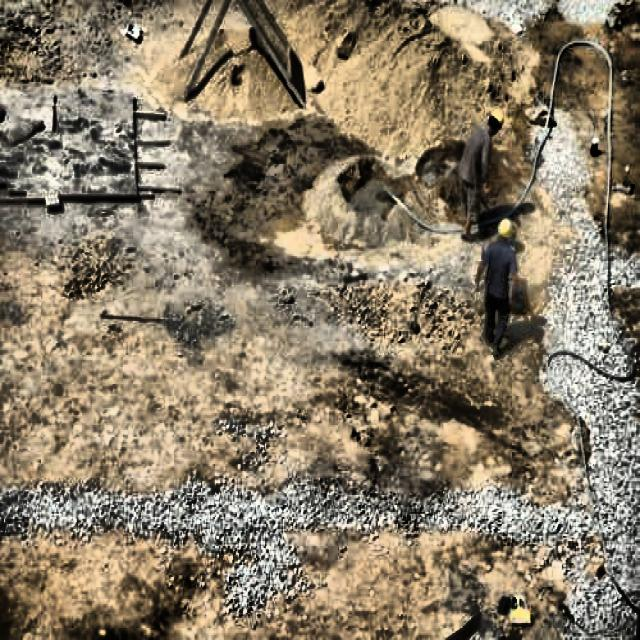helmet: (484, 102, 508, 140), (497, 213, 517, 244)
